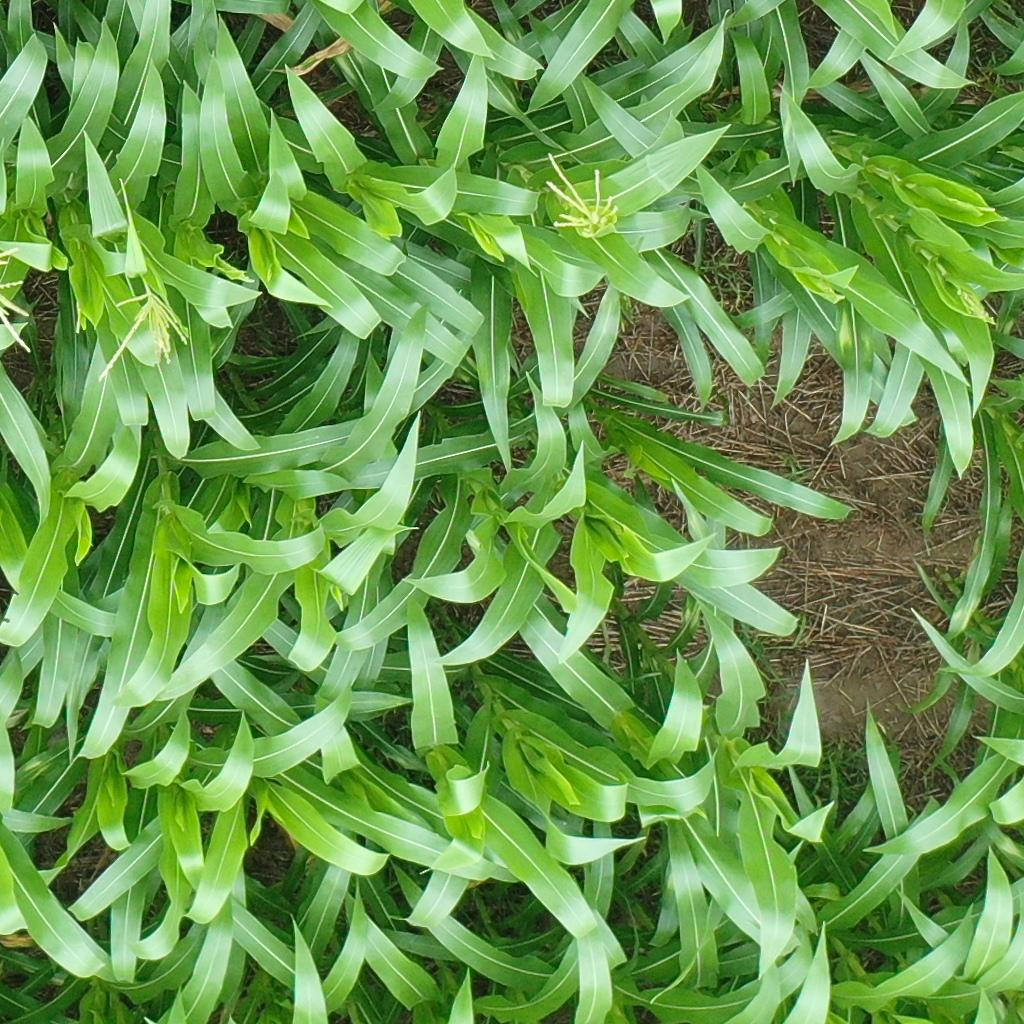Tassel: (93, 292, 196, 382), (539, 150, 627, 237), (1, 242, 38, 357), (954, 277, 999, 326)
